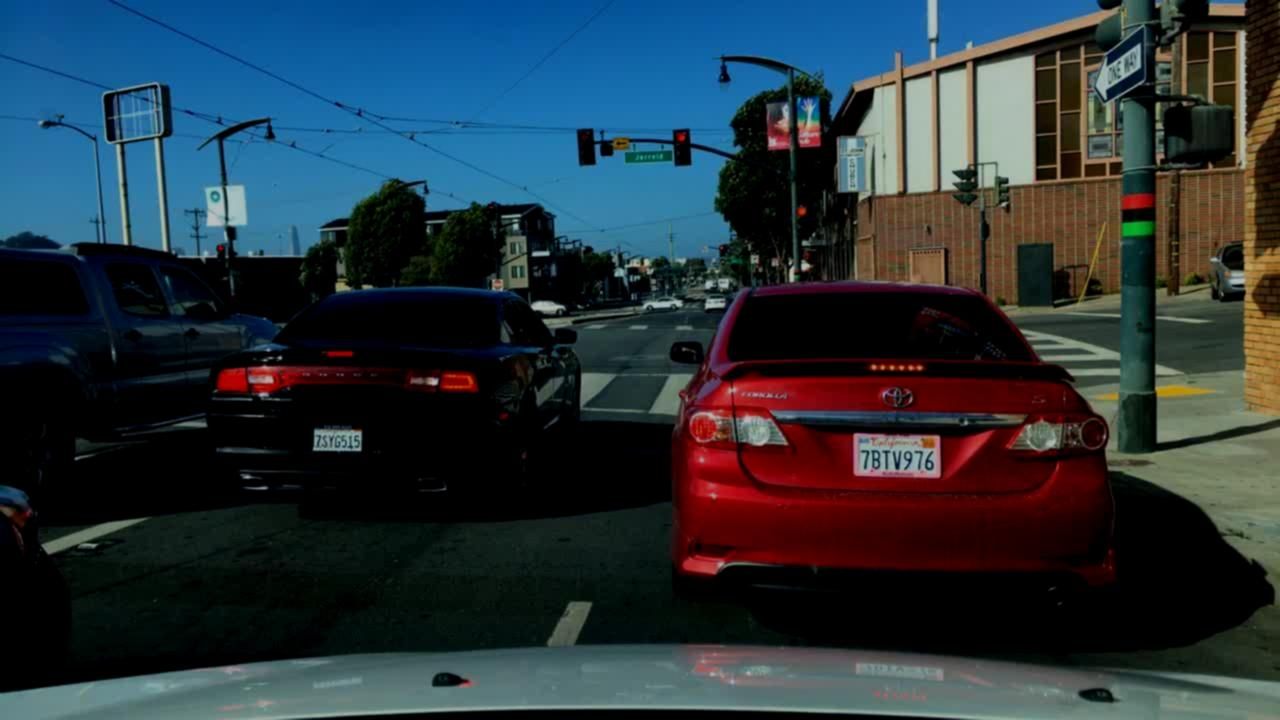Toyota: (874, 376, 932, 422)
dodge: (296, 366, 386, 388)
